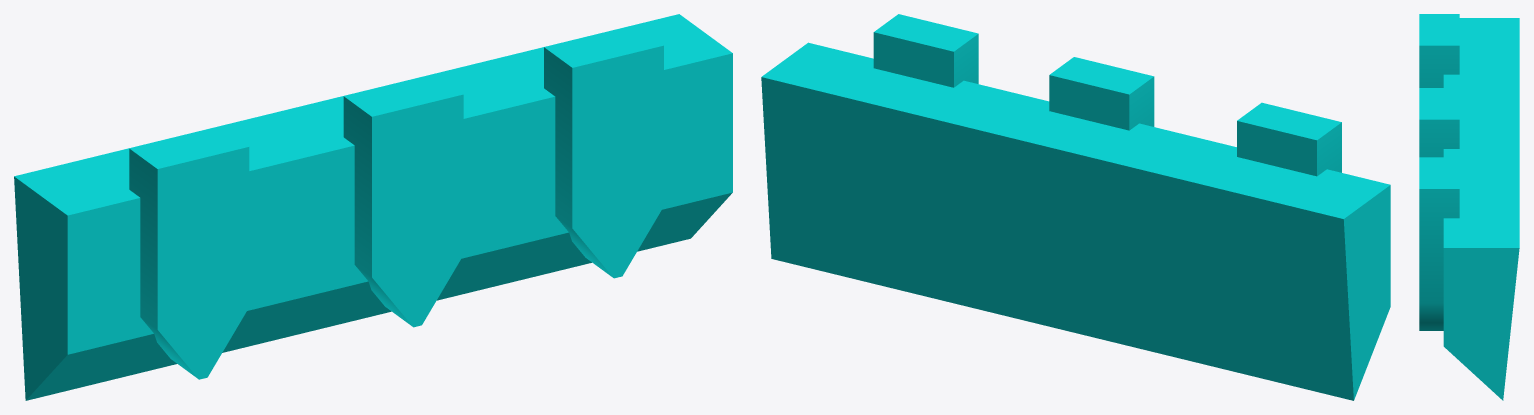
The model's file is SM_Bld_Battlements_01_Collision.fbx.
3 renders of one model, left to right at view 1: azimuth 30°, elevation 25°; view 2: azimuth 150°, elevation 25°; view 3: azimuth 270°, elevation 25°, orthographic. The views are drawn at different scales.
Parts seen in each view (by area): view 1: SM_Bld_Battlements_01_Collision; view 2: SM_Bld_Battlements_01_Collision; view 3: SM_Bld_Battlements_01_Collision.
Part boxes in pixels (<box>): SM_Bld_Battlements_01_Collision: <box>14,14,732,400</box>; SM_Bld_Battlements_01_Collision: <box>761,14,1390,400</box>; SM_Bld_Battlements_01_Collision: <box>1419,14,1519,400</box>.
Size of the model in its own units: 500 by 185 by 92.1.
